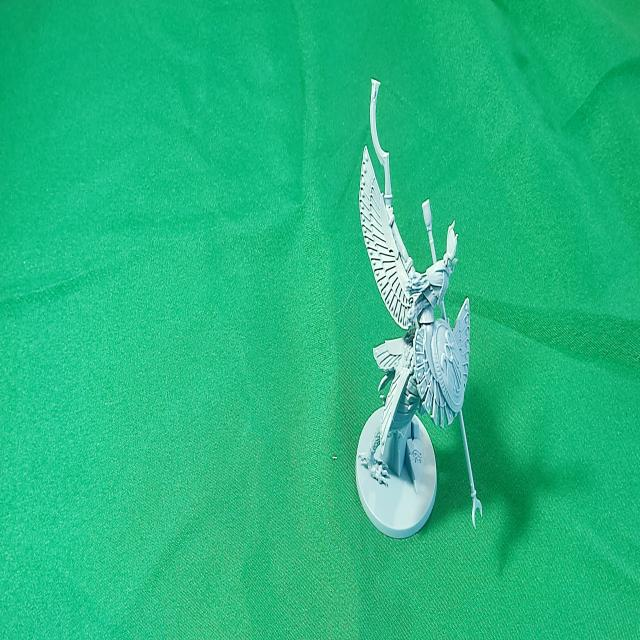isis: (343, 66, 496, 562)
